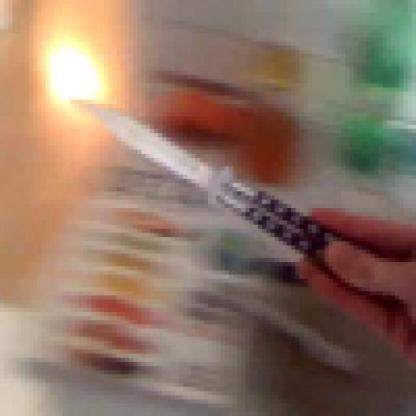Knife: (67, 91, 370, 337)
